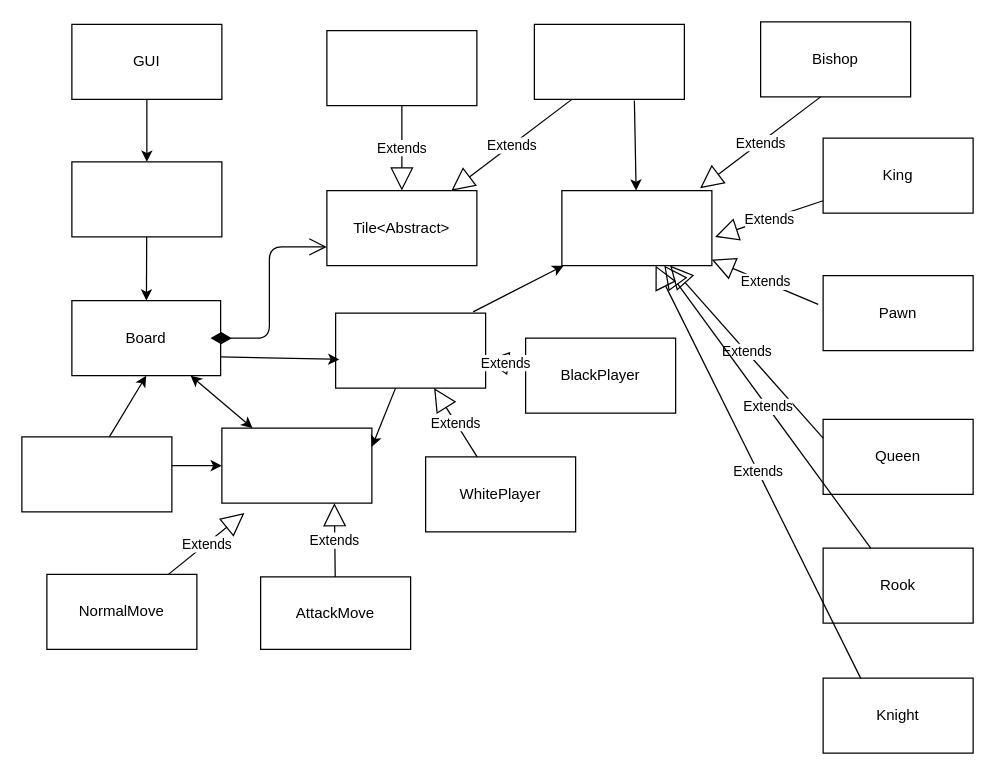
Image size: 995x775. Some labels were removed from this diagram. Here are the shapes that lost their labels. From the top down, the centre of each, then its label:
point (401, 67): EmptyTile
point (608, 61): OccupiedTile
point (146, 199): BoardBuilder
point (636, 227): Pieces<Abstract>
point (410, 350): Player<Abstract>
point (96, 474): MoveTransision
point (296, 465): Move<Abstract>
